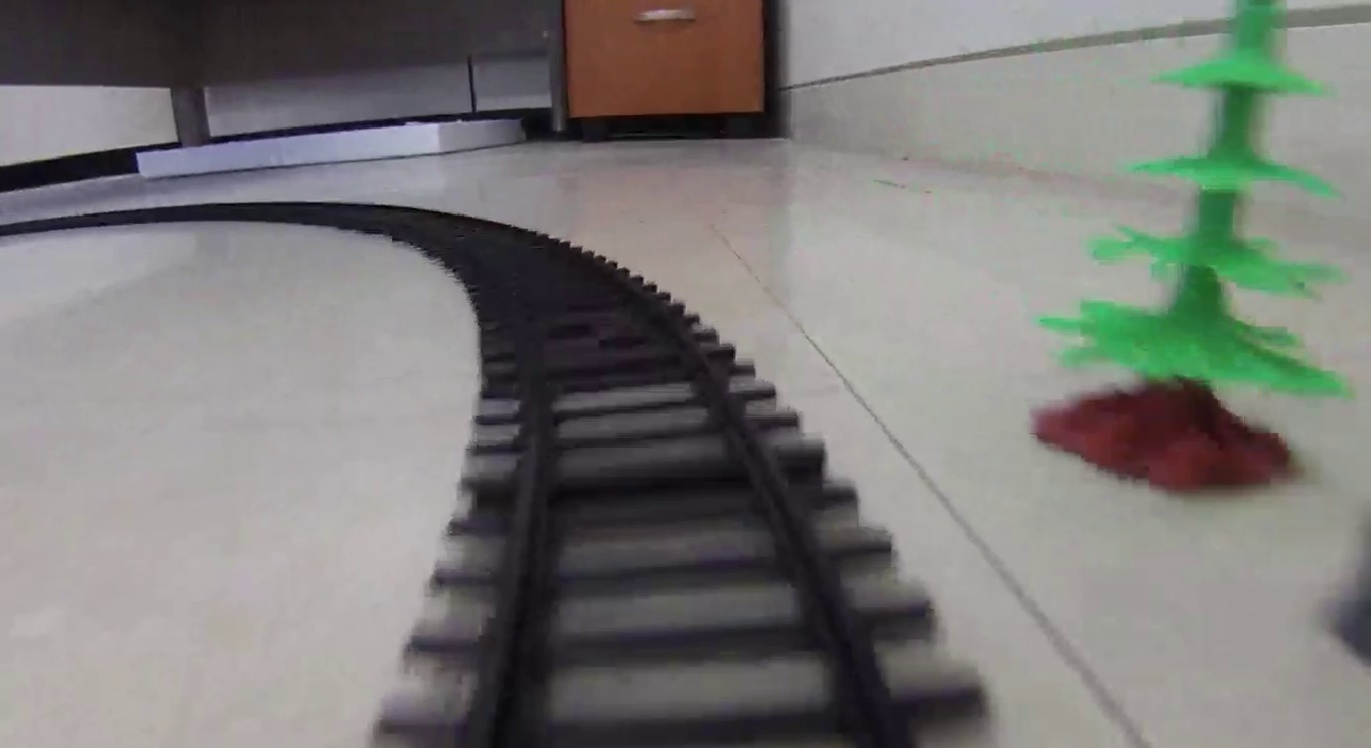tree: (1038, 3, 1350, 490)
